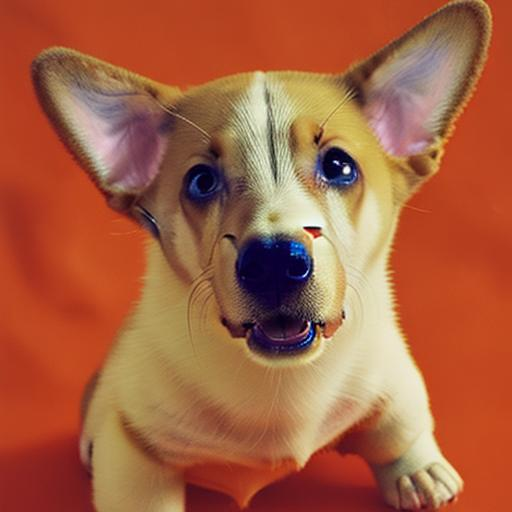eye: (304, 144, 368, 190), (178, 167, 229, 205)
